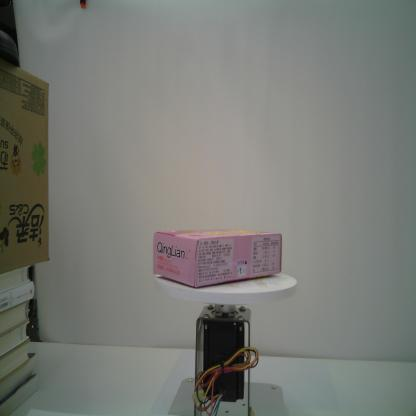Dessert: (154, 227, 283, 287)
